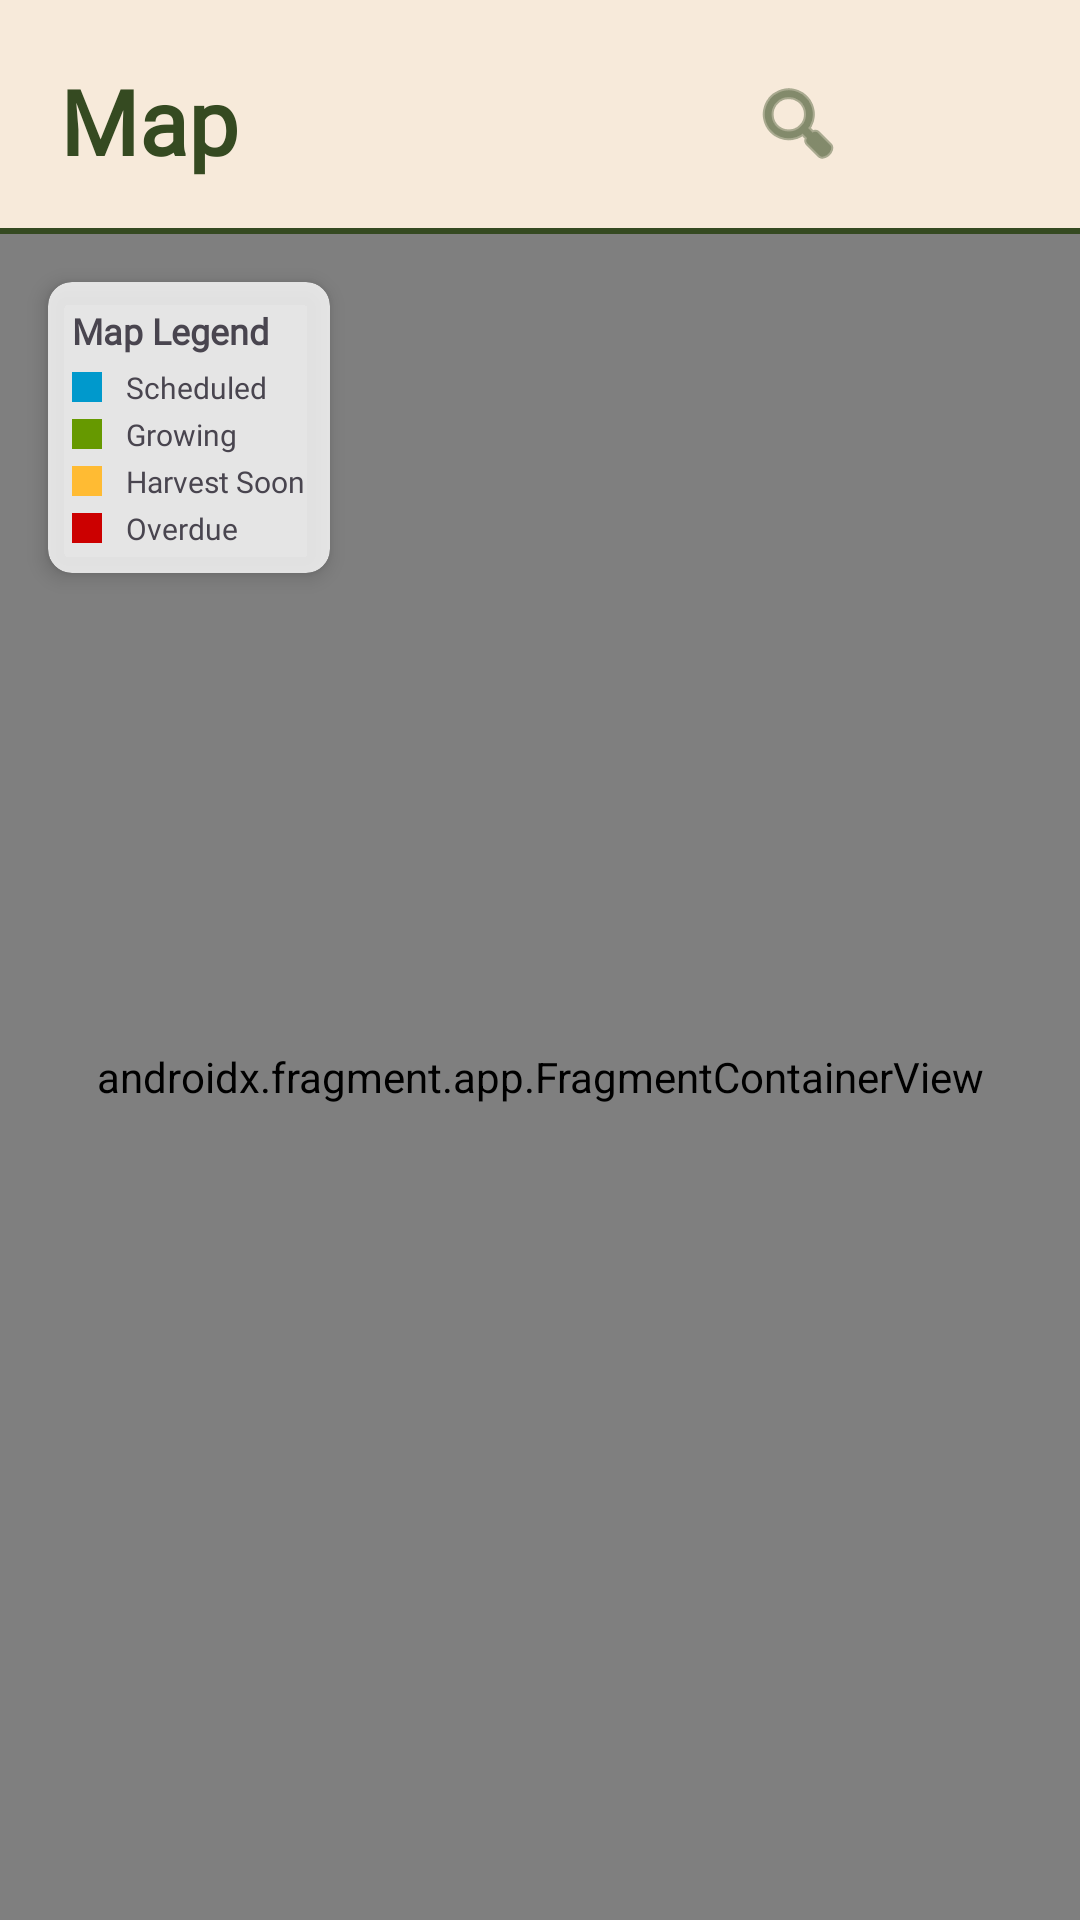

Point at icon controls on the screen. Image size 1080x1920, points as [x,y].
search: [798,123]
